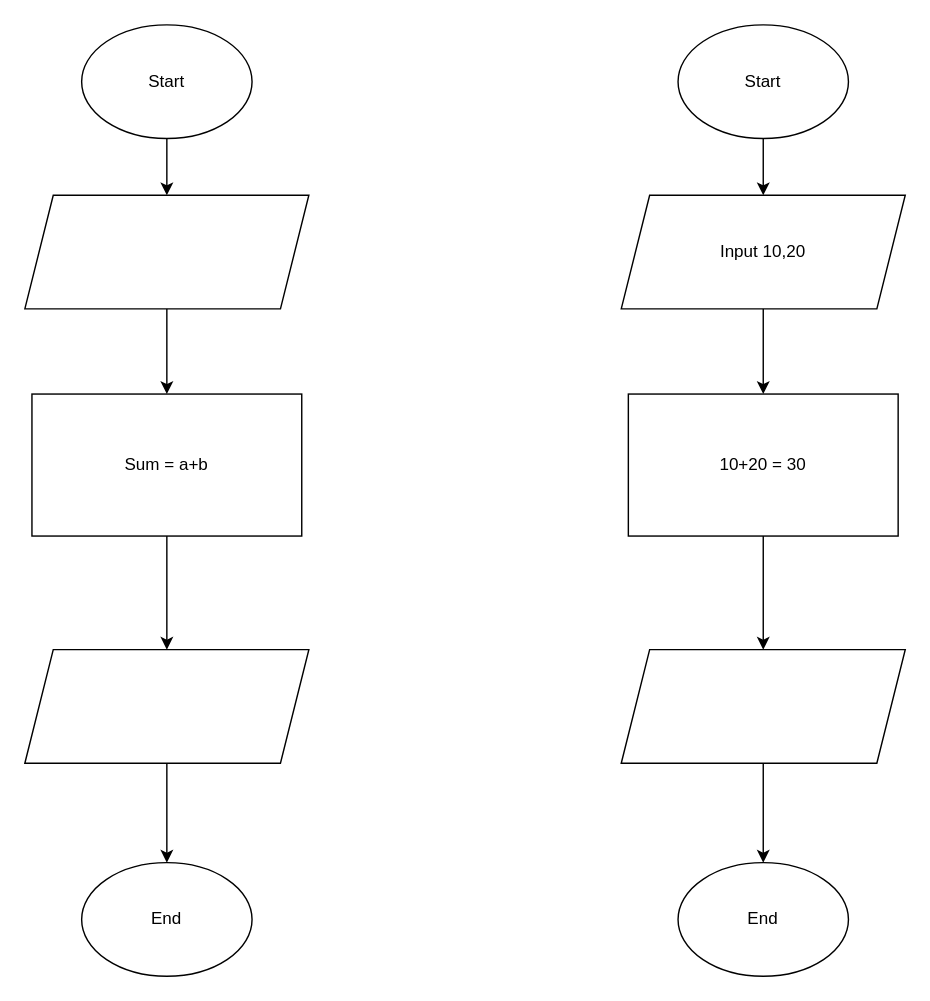
Some shapes in this 930 by 1001 pixel diagram are drawn without their labels. Here are the shapes that lost their labels. From the top down, the centre of each, then its label:
(x=166, y=251): Input a,b
(x=166, y=705): Print Sum
(x=762, y=705): Print 30
